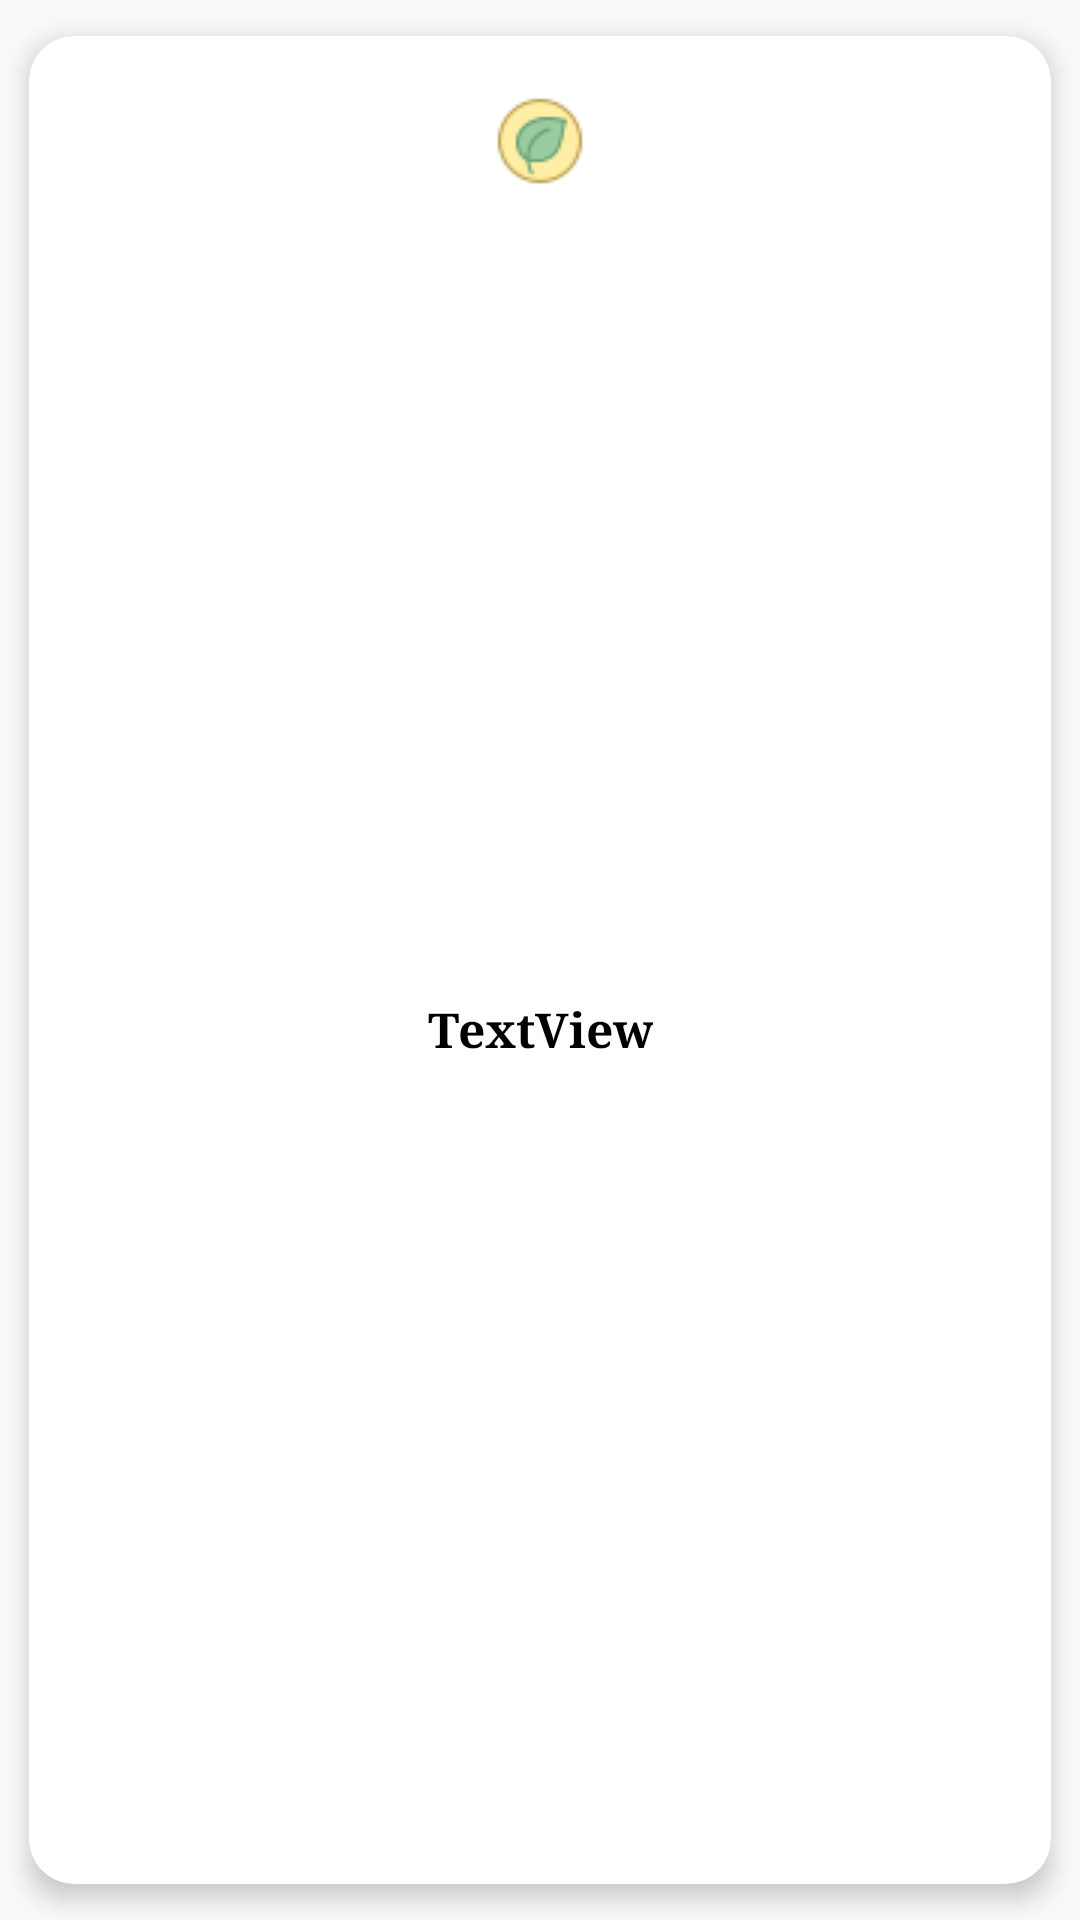

Icon bounding boxes for this 1080*1920 phone screenshot, format (x1, y1, x2, y2):
categoryimage: (497, 98, 583, 184)
